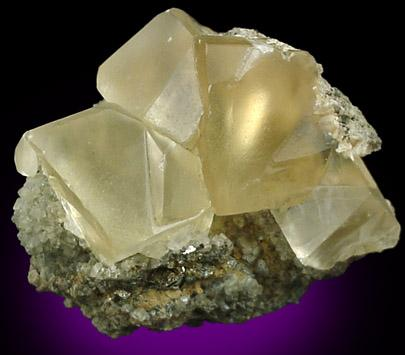calcite: (16, 9, 401, 268)
